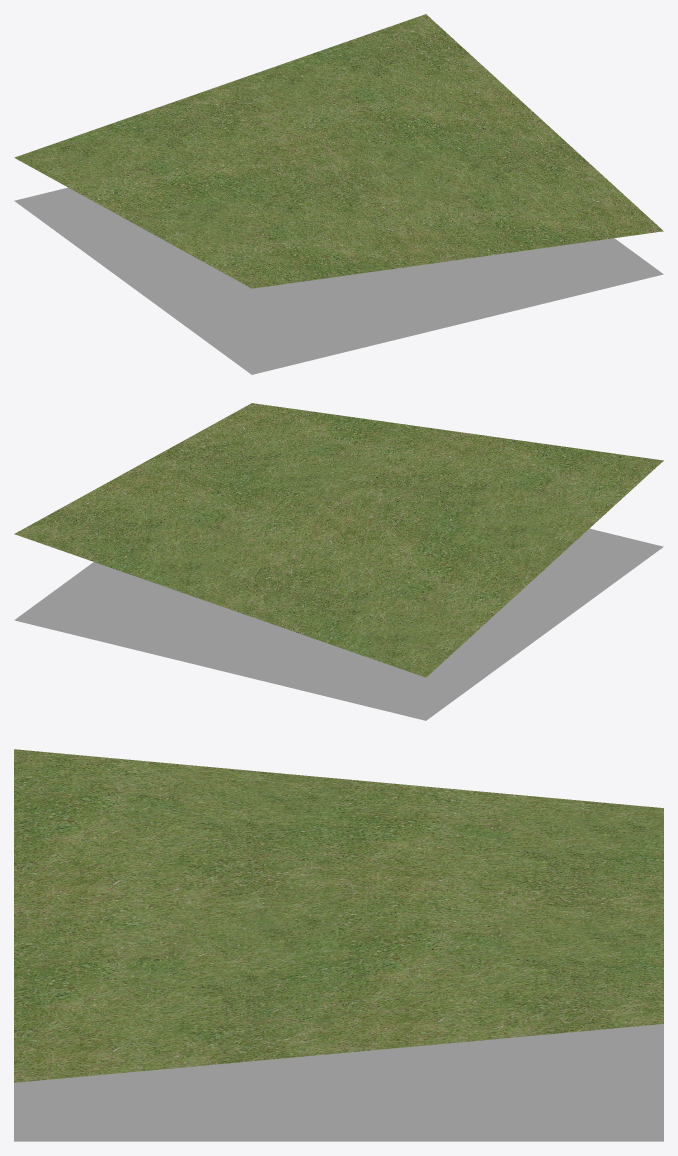
Rendered from Grass_Gradient_C.fbx.
3 renders of one model, top to bottom at view 1: azimuth 30°, elevation 25°; view 2: azimuth 150°, elevation 25°; view 3: azimuth 270°, elevation 25°, orthographic. The views are drawn at different scales.
Parts seen in each view (by area): view 1: Grass, Snap_Plane_Invisible; view 2: Grass, Snap_Plane_Invisible; view 3: Grass, Snap_Plane_Invisible.
Boxes of the visible parts, bbox=[...] form: Grass: bbox=[14, 14, 663, 288]; Snap_Plane_Invisible: bbox=[14, 187, 663, 374]; Grass: bbox=[14, 403, 663, 677]; Snap_Plane_Invisible: bbox=[14, 528, 663, 720]; Grass: bbox=[14, 749, 663, 1082]; Snap_Plane_Invisible: bbox=[14, 1024, 663, 1141].
Bounding box in the file's own units: 20 × 4 × 20.
